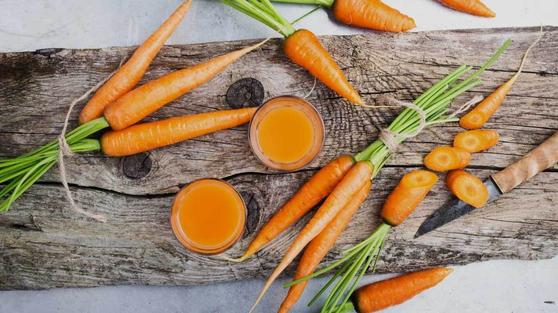carrot: (265, 167, 374, 299), (117, 37, 269, 125), (251, 149, 353, 265), (100, 104, 260, 164), (281, 23, 366, 111), (354, 264, 453, 313), (317, 1, 415, 34)
